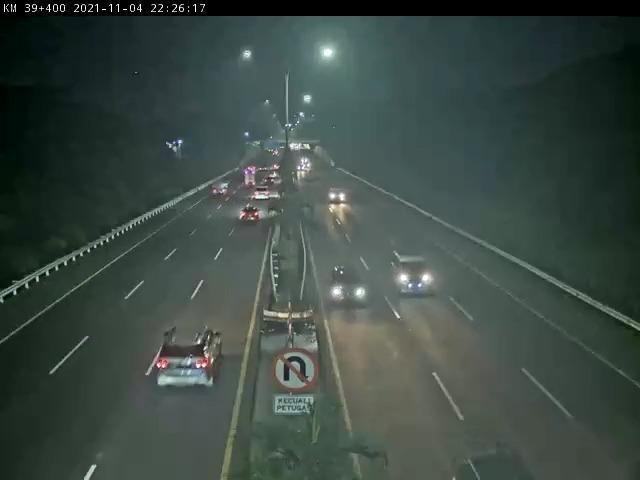car: (156, 321, 228, 393), (393, 242, 446, 305), (333, 266, 378, 314), (322, 183, 349, 220), (234, 205, 272, 227)
